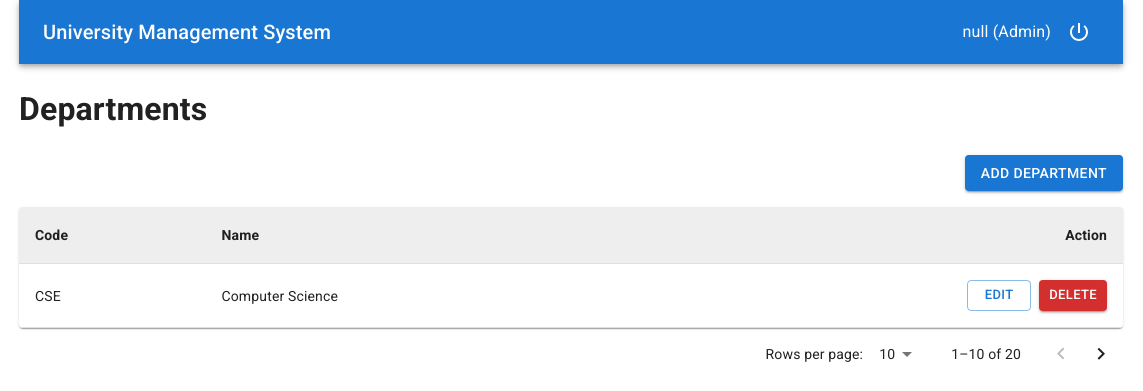
Scenario: DepartmentPage › requests the paged endpoint and loads the next page on navigation
Check: the text "Computer Science" is shown, box [206,264,631,328]
Click the button named "next page": click(1101, 354) [1081,334,1121,374]
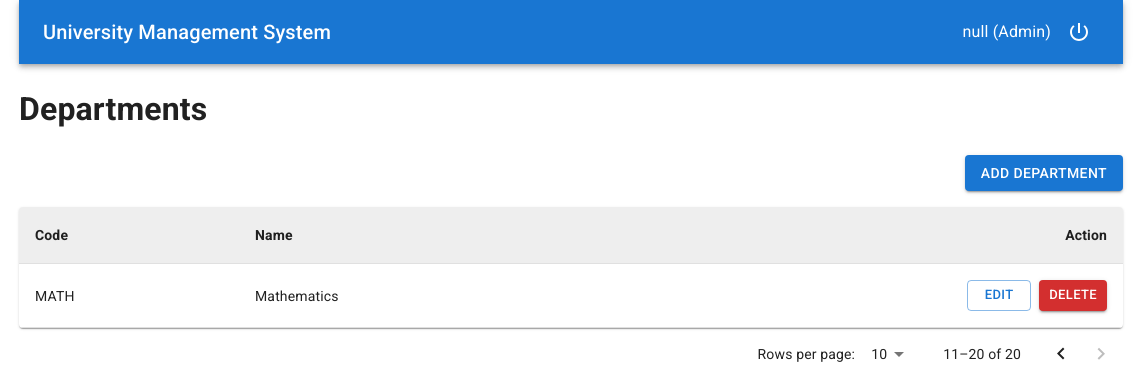
Check: the text "Mathematics" is shown, box [239,264,595,328]
